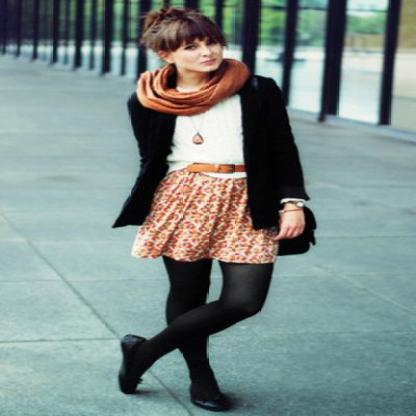bag: (265, 198, 304, 241)
jacket: (112, 75, 309, 227)
shirt: (168, 96, 242, 190)
shoe: (119, 375, 236, 411)
skirt: (131, 175, 280, 264)
